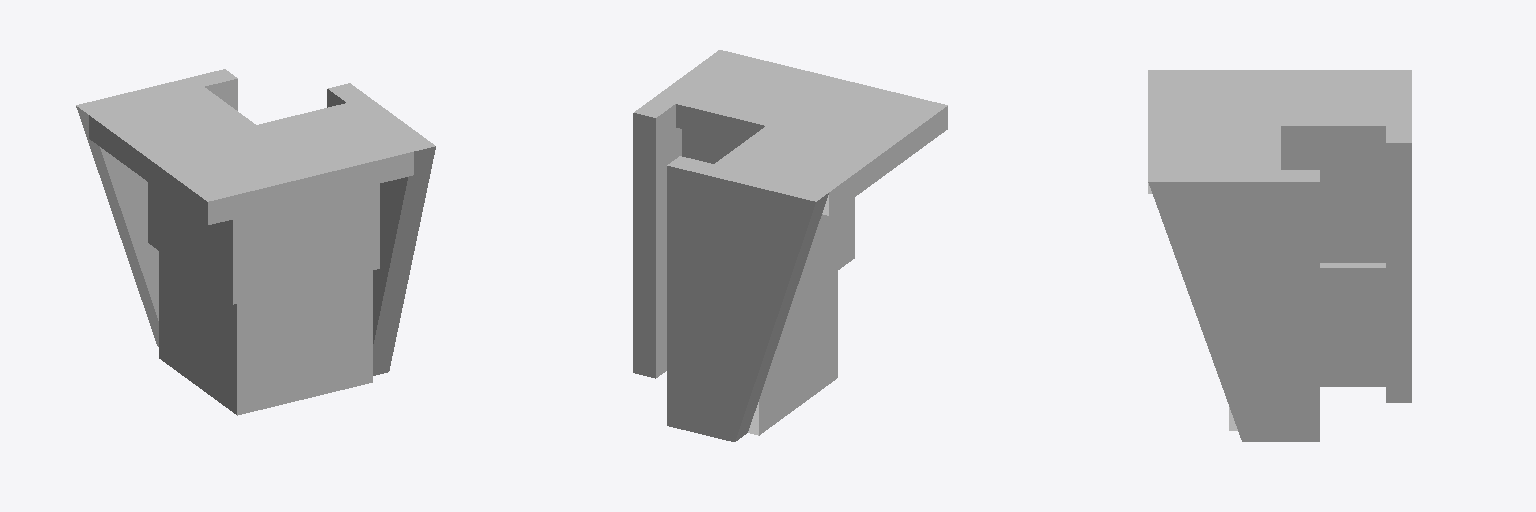
File: mylandscaping_blockm_ic_t.obj
3 renders of one model, left to right at view 1: azimuth 30°, elevation 25°; view 2: azimuth 150°, elevation 25°; view 3: azimuth 270°, elevation 25°, orthographic.
Parts seen in each view (by area): view 1: Madison_IC_T_Cube.001; view 2: Madison_IC_T_Cube.001; view 3: Madison_IC_T_Cube.001.
Part boxes in pixels (bbox=[...]): Madison_IC_T_Cube.001: bbox=[76, 69, 435, 415]; Madison_IC_T_Cube.001: bbox=[633, 50, 947, 441]; Madison_IC_T_Cube.001: bbox=[1148, 70, 1411, 441].
Bounding box in the file's own units: 1.01 × 1.1 × 1.01.